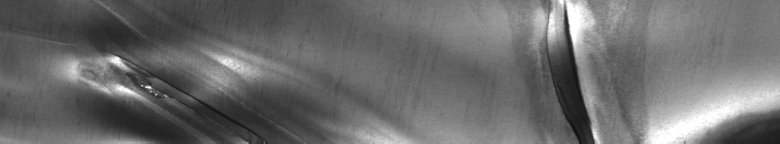ke: (82, 8, 231, 136)
